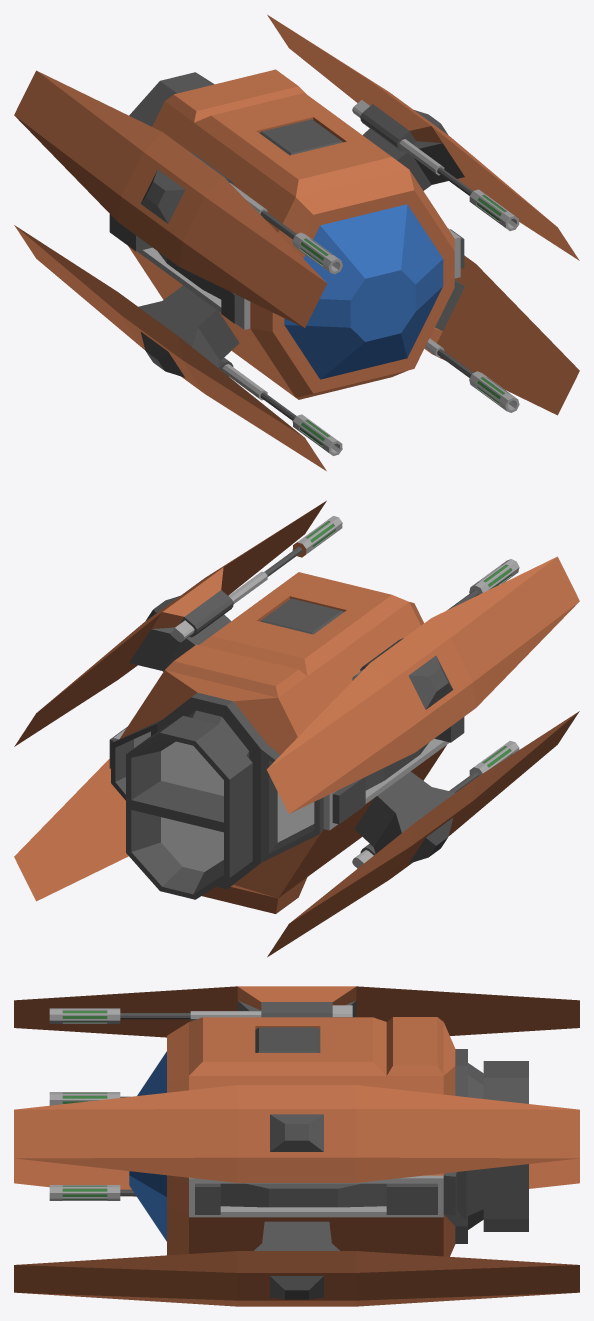
The model's file is spaceship_6.fbx.
3 renders of one model, top to bottom at view 1: azimuth 30°, elevation 25°; view 2: azimuth 150°, elevation 25°; view 3: azimuth 270°, elevation 25°, orthographic. The views are drawn at different scales.
Parts seen in each view (by area): view 1: spaceship_6; view 2: spaceship_6; view 3: spaceship_6.
Boxes of the visible parts, x1,y1,x2,y2 form: spaceship_6: (14, 14, 579, 471); spaceship_6: (14, 500, 579, 957); spaceship_6: (14, 986, 579, 1306).
Bounding box in the file's own units: 0.4348 × 0.3267 × 0.7373.
